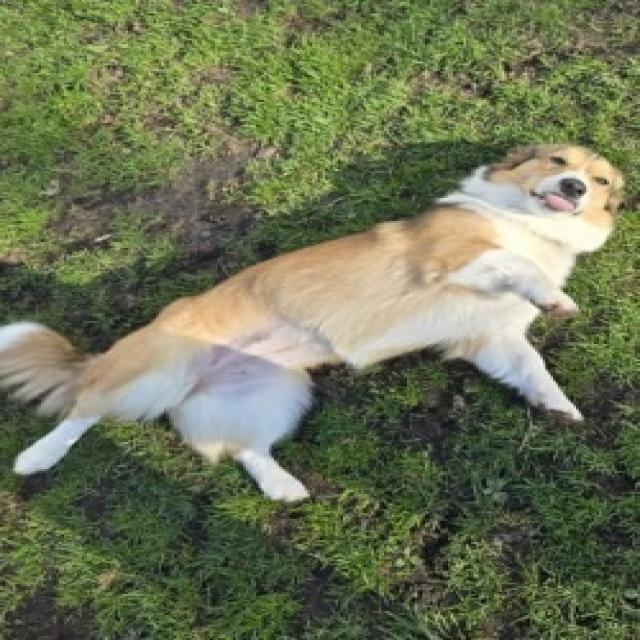corgi_dog: (448, 133, 638, 249)
